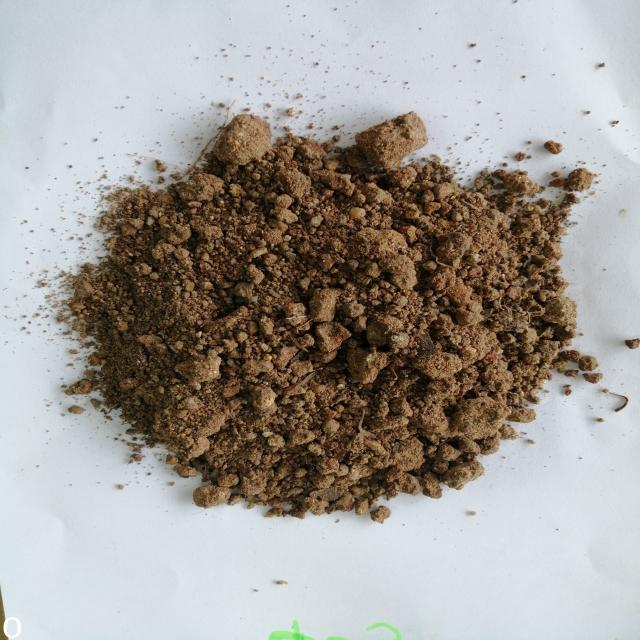soil: (170, 200, 524, 450)
